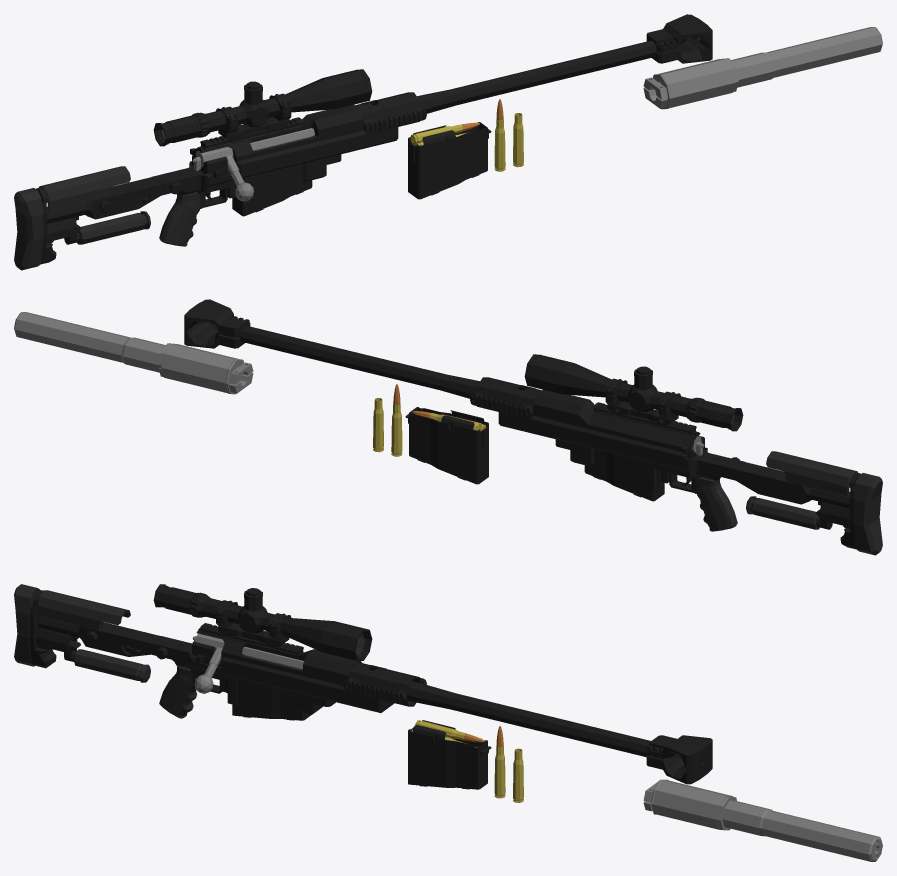
File: pgm_hecate_ii.glb
3 renders of one model, top to bottom at view 1: azimuth 30°, elevation 25°; view 2: azimuth 150°, elevation 25°; view 3: azimuth 330°, elevation 25°, orthographic.
Parts seen in each view (by area): view 1: qms50 silencer_15, hecate2 upper receiver_8, hecate2 lower receiver_7, sb 5-25x56 scope_17, 50bmg hecate2 7rnd mag_3, hecate2 stock butt_10, hecate2 50bmg barrel 70cm_4, hecate2 50bmg muzzle brake_14, hecate2 stock base_9, hecate2 stock cheek_11, 50bmg hecate2 7rnd empty mag_2, hecate2 pistol grip_12 (+4 smaller); view 2: qms50 silencer_15, hecate2 upper receiver_8, hecate2 lower receiver_7, sb 5-25x56 scope_17, 50bmg hecate2 7rnd mag_3, hecate2 stock butt_10, hecate2 50bmg barrel 70cm_4, hecate2 50bmg muzzle brake_14, hecate2 stock base_9, hecate2 stock cheek_11, 50bmg hecate2 7rnd empty mag_2, hecate2 pistol grip_12 (+3 smaller); view 3: qms50 silencer_15, hecate2 upper receiver_8, sb 5-25x56 scope_17, hecate2 lower receiver_7, 50bmg hecate2 7rnd mag_3, hecate2 50bmg barrel 70cm_4, hecate2 stock butt_10, hecate2 50bmg muzzle brake_14, hecate2 stock base_9, hecate2 stock cheek_11, 50bmg hecate2 7rnd empty mag_2, scope mount_16 (+4 smaller).
Boxes of the visible parts, x1=… form: qms50 silencer_15: x1=643, y1=27, x2=882, y2=109; hecate2 upper receiver_8: x1=190, y1=92, x2=426, y2=178; hecate2 lower receiver_7: x1=152, y1=126, x2=398, y2=208; sb 5-25x56 scope_17: x1=153, y1=69, x2=372, y2=146; 50bmg hecate2 7rnd mag_3: x1=408, y1=122, x2=491, y2=199; hecate2 stock butt_10: x1=14, y1=187, x2=150, y2=270; hecate2 50bmg barrel 70cm_4: x1=378, y1=40, x2=657, y2=120; hecate2 50bmg muzzle brake_14: x1=646, y1=14, x2=712, y2=63; hecate2 stock base_9: x1=46, y1=177, x2=163, y2=223; hecate2 stock cheek_11: x1=38, y1=166, x2=130, y2=211; 50bmg hecate2 7rnd empty mag_2: x1=232, y1=163, x2=312, y2=216; hecate2 pistol grip_12: x1=159, y1=192, x2=200, y2=246; qms50 silencer_15: x1=14, y1=312, x2=253, y2=394; hecate2 upper receiver_8: x1=470, y1=377, x2=704, y2=459; hecate2 lower receiver_7: x1=498, y1=411, x2=744, y2=493; sb 5-25x56 scope_17: x1=524, y1=354, x2=743, y2=431; 50bmg hecate2 7rnd mag_3: x1=405, y1=407, x2=488, y2=484; hecate2 stock butt_10: x1=746, y1=472, x2=882, y2=555; hecate2 50bmg barrel 70cm_4: x1=239, y1=325, x2=518, y2=405; hecate2 50bmg muzzle brake_14: x1=184, y1=299, x2=250, y2=348; hecate2 stock base_9: x1=733, y1=462, x2=850, y2=508; hecate2 stock cheek_11: x1=766, y1=451, x2=858, y2=496; 50bmg hecate2 7rnd empty mag_2: x1=584, y1=448, x2=664, y2=501; hecate2 pistol grip_12: x1=696, y1=477, x2=737, y2=531; qms50 silencer_15: x1=643, y1=779, x2=882, y2=861; hecate2 upper receiver_8: x1=192, y1=623, x2=426, y2=706; sb 5-25x56 scope_17: x1=153, y1=584, x2=372, y2=660; hecate2 lower receiver_7: x1=151, y1=636, x2=394, y2=714; 50bmg hecate2 7rnd mag_3: x1=408, y1=720, x2=491, y2=789; hecate2 50bmg barrel 70cm_4: x1=363, y1=681, x2=650, y2=757; hecate2 stock butt_10: x1=14, y1=584, x2=150, y2=682; hecate2 50bmg muzzle brake_14: x1=646, y1=735, x2=712, y2=784; hecate2 stock base_9: x1=38, y1=616, x2=160, y2=656; hecate2 stock cheek_11: x1=37, y1=590, x2=130, y2=629; 50bmg hecate2 7rnd empty mag_2: x1=232, y1=678, x2=310, y2=720; scope mount_16: x1=216, y1=600, x2=291, y2=648.
Size of the model in its own units: 17.71 by 2.97 by 1.32.
7 materials, 1 textured.
